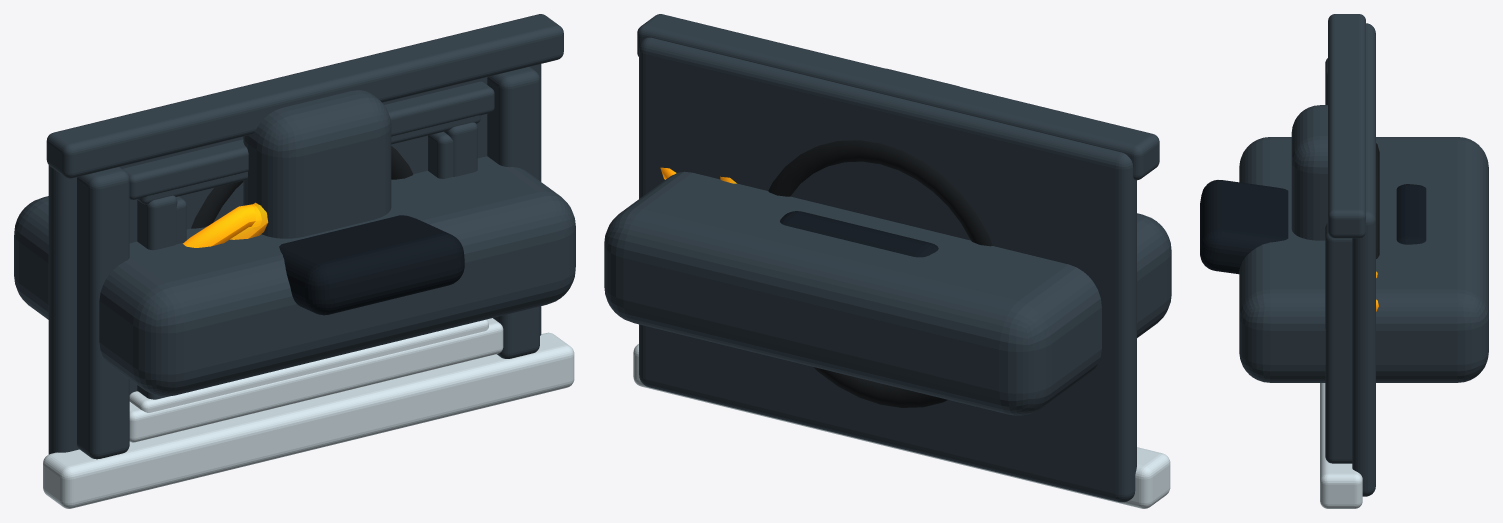
File: body_29.glb
3 renders of one model, left to right at view 1: azimuth 30°, elevation 25°; view 2: azimuth 150°, elevation 25°; view 3: azimuth 270°, elevation 25°, orthographic. The views are drawn at different scales.
Visible parts, largest first — view 1: asset_mesh__body_1349__reference_body, asset_mesh__body_1358__upper_flange, asset_mesh__body_1358__lower_flange, asset_mesh__body_1358__transmission_tunnel_relief, asset_mesh__body_1360__seat_back, asset_mesh__body_1358__left_reinforcement, asset_mesh__body_1358__stamped_sheet, asset_mesh__body_1371__upper_flange, asset_mesh__body_1371__lower_flange, asset_mesh__body_1358__right_reinforcement, asset_mesh__body_1361__upper_flange, asset_mesh__body_1371__left_reinforcement (+5 smaller); view 2: asset_mesh__body_1358__stamped_sheet, asset_mesh__body_1349__reference_body, asset_mesh__body_1358__lower_flange, asset_mesh__body_1375__service_element, asset_mesh__body_1358__upper_flange, asset_mesh__body_1360__seat_cushion; view 3: asset_mesh__body_1349__reference_body, asset_mesh__body_1358__lower_flange, asset_mesh__body_1358__stamped_sheet, asset_mesh__body_1360__seat_back, asset_mesh__body_1358__right_reinforcement, asset_mesh__body_1358__transmission_tunnel_relief, asset_mesh__body_1358__upper_flange, asset_mesh__body_1360__seat_cushion, asset_mesh__body_1375__service_element.
Part boxes in pixels (x1,y1,x2,y2): asset_mesh__body_1349__reference_body: (14,156,575,396); asset_mesh__body_1358__upper_flange: (43,332,574,508); asset_mesh__body_1358__lower_flange: (46,14,563,178); asset_mesh__body_1358__transmission_tunnel_relief: (243,90,391,238); asset_mesh__body_1360__seat_back: (279,215,464,315); asset_mesh__body_1358__left_reinforcement: (77,167,129,459); asset_mesh__body_1358__stamped_sheet: (48,64,541,454); asset_mesh__body_1371__upper_flange: (129,318,503,442); asset_mesh__body_1371__lower_flange: (122,81,494,199); asset_mesh__body_1358__right_reinforcement: (487,66,539,358); asset_mesh__body_1361__upper_flange: (129,319,488,412); asset_mesh__body_1371__left_reinforcement: (137,195,177,399); asset_mesh__body_1358__stamped_sheet: (639,37,1136,502); asset_mesh__body_1349__reference_body: (604,171,1171,415); asset_mesh__body_1358__lower_flange: (637,14,1159,180); asset_mesh__body_1375__service_element: (768,140,992,407); asset_mesh__body_1358__upper_flange: (633,344,1170,508); asset_mesh__body_1360__seat_cushion: (780,211,938,257); asset_mesh__body_1349__reference_body: (1239,137,1488,382); asset_mesh__body_1358__lower_flange: (1328,14,1365,238); asset_mesh__body_1358__stamped_sheet: (1352,23,1375,496); asset_mesh__body_1360__seat_back: (1200,180,1288,274); asset_mesh__body_1358__right_reinforcement: (1325,223,1352,463); asset_mesh__body_1358__transmission_tunnel_relief: (1291,105,1327,240); asset_mesh__body_1358__upper_flange: (1320,383,1362,508); asset_mesh__body_1360__seat_cushion: (1396,184,1426,244); asset_mesh__body_1375__service_element: (1376,143,1379,258).
Bounding box in the file's own units: 1.72 × 1.15 × 1.02.
